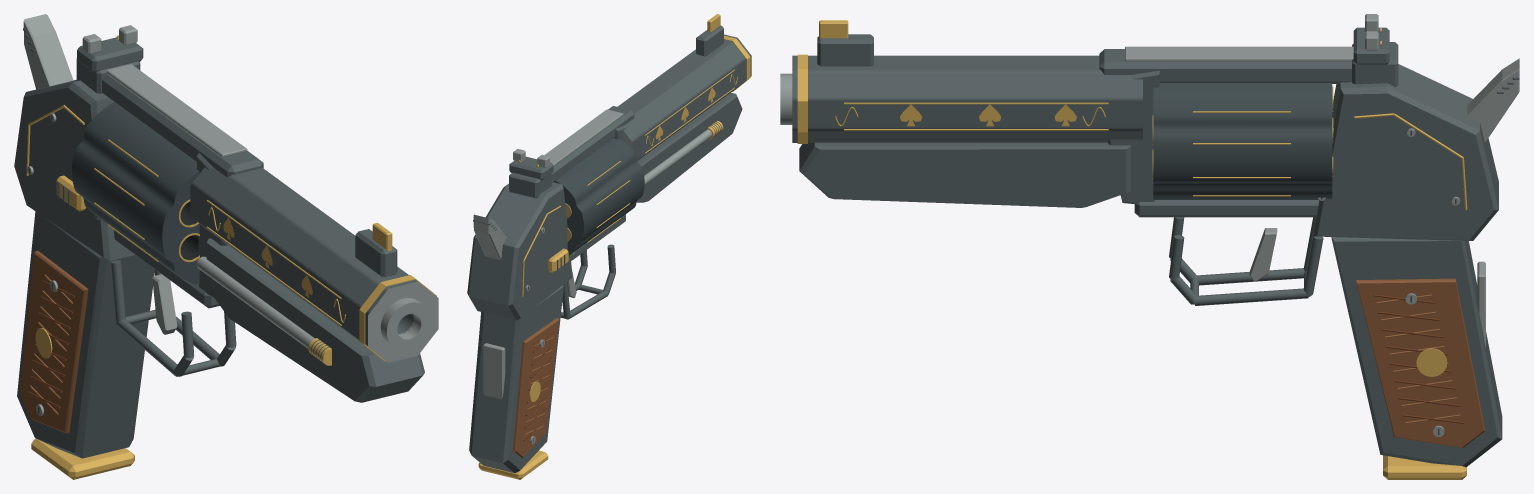
The model's file is revolver.glb.
3 renders of one model, left to right at view 1: azimuth 30°, elevation 25°; view 2: azimuth 150°, elevation 25°; view 3: azimuth 270°, elevation 25°, orthographic. The views are drawn at different scales.
Parts seen in each view (by area): view 1: Octagonal barrel shroud with bore, Grip frame, Cylinder fluted body, Heavy underlug, Forged rear frame, Sculpted walnut grip panels, Top strap, Top strap polished bevel, Trigger guard, Hammer, Barrel shroud end shoulders, Grip heel brass shoe (+18 smaller); view 2: Forged rear frame, Grip frame, Octagonal barrel shroud with bore, Cylinder fluted body, Heavy underlug, Sculpted walnut grip panels, Top strap, Top strap polished bevel, Rear backstrap, Trigger guard, Hammer, Rear sight pedestal (+8 smaller); view 3: Octagonal barrel shroud with bore, Forged rear frame, Cylinder fluted body, Heavy underlug, Sculpted walnut grip panels, Grip frame, Top strap, Top strap polished bevel, Lower cylinder bridge, Trigger guard right, Front cylinder frame, Hammer (+11 smaller).
Part boxes in pixels (<box>): Octagonal barrel shroud with bore: <box>190,167,417,361</box>; Grip frame: <box>17,211,154,458</box>; Cylinder fluted body: <box>72,102,199,274</box>; Heavy underlug: <box>206,238,424,402</box>; Forged rear frame: <box>14,79,134,260</box>; Sculpted walnut grip panels: <box>19,251,88,433</box>; Top strap: <box>102,74,263,177</box>; Top strap polished bevel: <box>107,64,247,157</box>; Trigger guard: <box>111,260,220,376</box>; Hammer: <box>23,14,73,89</box>; Barrel shroud end shoulders: <box>368,281,438,362</box>; Grip heel brass shoe: <box>31,438,134,479</box>; Forged rear frame: <box>467,182,572,320</box>; Grip frame: <box>469,285,563,473</box>; Octagonal barrel shroud with bore: <box>617,34,751,160</box>; Cylinder fluted body: <box>555,138,644,251</box>; Heavy underlug: <box>636,92,742,202</box>; Sculpted walnut grip panels: <box>512,318,558,457</box>; Top strap: <box>551,106,634,182</box>; Top strap polished bevel: <box>544,109,623,165</box>; Rear backstrap: <box>483,343,505,399</box>; Trigger guard: <box>560,244,615,319</box>; Hammer: <box>473,214,506,259</box>; Rear sight pedestal: <box>509,173,551,198</box>; Octagonal barrel shroud with bore: <box>792,55,1142,142</box>; Forged rear frame: <box>1313,64,1498,240</box>; Cylinder fluted body: <box>1153,83,1332,199</box>; Heavy underlug: <box>799,142,1130,207</box>; Sculpted walnut grip panels: <box>1356,278,1485,447</box>; Grip frame: <box>1331,237,1502,467</box>; Top strap: <box>1099,49,1351,83</box>; Top strap polished bevel: <box>1125,46,1353,61</box>; Lower cylinder bridge: <box>1134,200,1318,217</box>; Trigger guard right: <box>1169,235,1323,305</box>; Front cylinder frame: <box>1107,70,1160,203</box>; Hammer: <box>1467,58,1519,142</box>.
Bounding box in the file's own units: 0.0774 × 0.2855 × 0.43.
